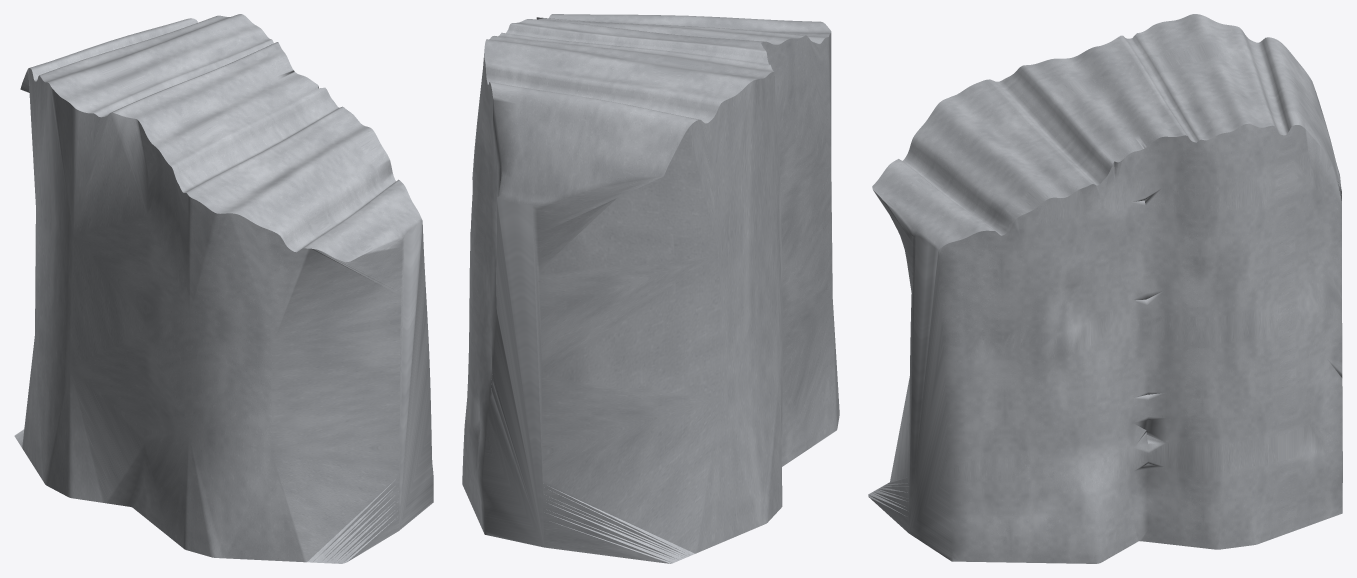
File: refined-lod2.glb
3 renders of one model, left to right at view 1: azimuth 30°, elevation 25°; view 2: azimuth 150°, elevation 25°; view 3: azimuth 270°, elevation 25°, orthographic. The views are drawn at different scales.
Visible parts, largest first — view 1: Refined_Pair_LOD2; view 2: Refined_Pair_LOD2; view 3: Refined_Pair_LOD2.
Part boxes in pixels (x1=…): Refined_Pair_LOD2: x1=14, y1=14, x2=433, y2=563; Refined_Pair_LOD2: x1=462, y1=14, x2=839, y2=563; Refined_Pair_LOD2: x1=868, y1=14, x2=1342, y2=563.
Size of the model in its own units: 23.6 by 32.19 by 33.55.
Materials: 1 (1 with a texture image).
